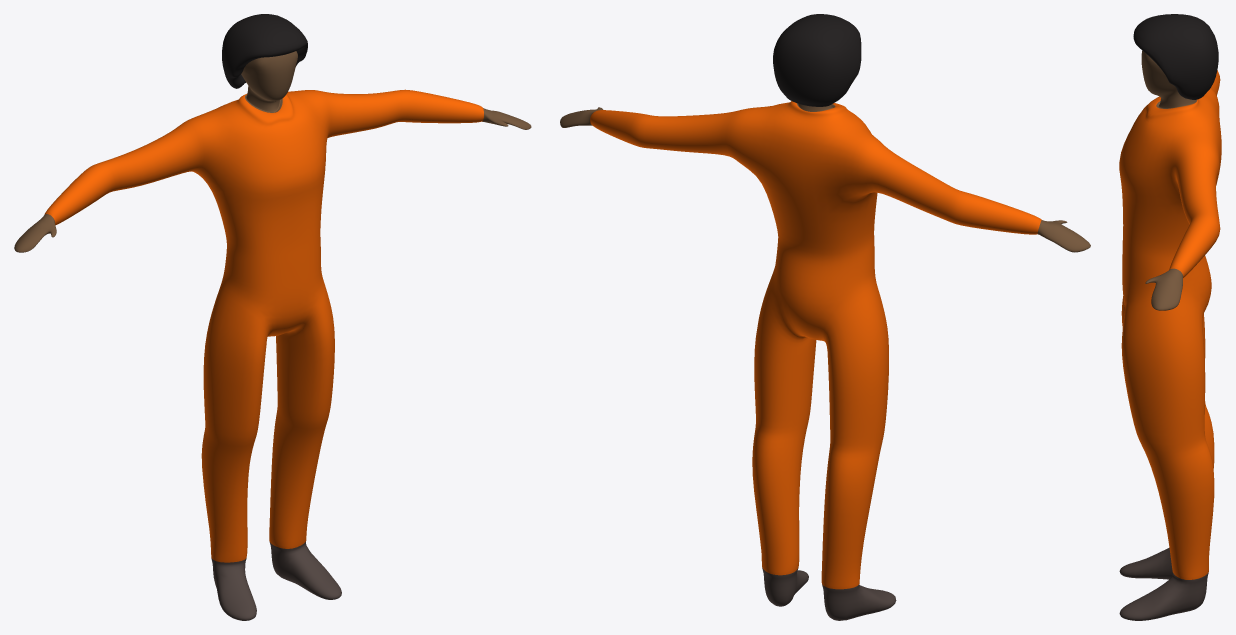
The model's file is criminal black 0.2.fbx.
3 renders of one model, left to right at view 1: azimuth 30°, elevation 25°; view 2: azimuth 150°, elevation 25°; view 3: azimuth 270°, elevation 25°, orthographic. The views are drawn at different scales.
Parts seen in each view (by area): view 1: Cube.001; view 2: Cube.001; view 3: Cube.001.
Part boxes in pixels (box(x1,y1,x2,y2)): Cube.001: box(14, 14, 531, 620); Cube.001: box(560, 14, 1090, 620); Cube.001: box(1119, 14, 1221, 620).
Size of the model in its own units: 171 by 182 by 29.3.
